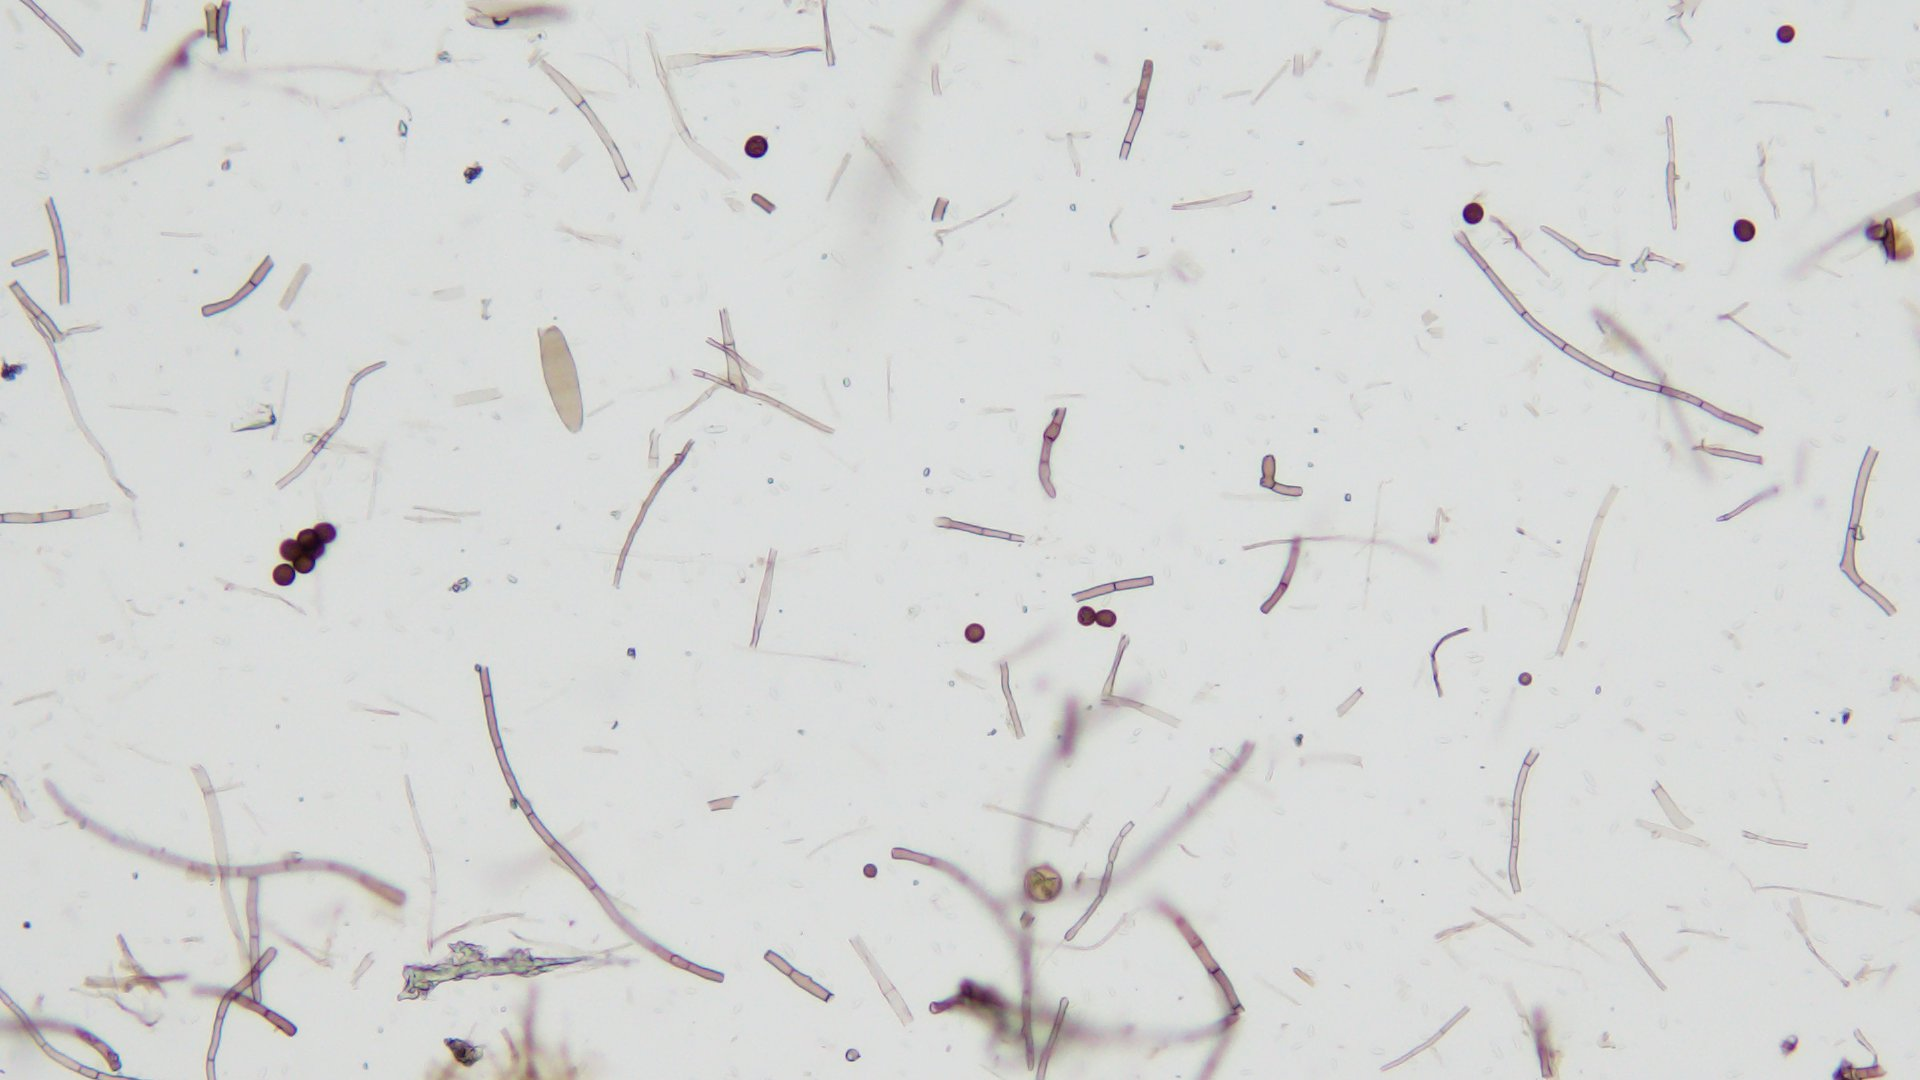dbb_spore: (535, 326, 589, 434)
shs_spore: (1733, 218, 1756, 243), (280, 535, 302, 562), (745, 133, 767, 157), (1462, 202, 1484, 227), (293, 553, 315, 575), (315, 524, 338, 545), (1095, 611, 1120, 629), (964, 622, 985, 644), (274, 566, 295, 585), (1076, 605, 1095, 626), (1776, 25, 1796, 44)
xb_spore: (1025, 866, 1062, 901)
